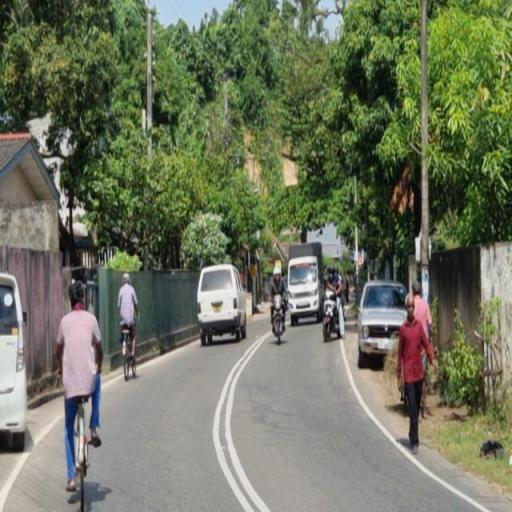double_white_line: (213, 326, 267, 512)
